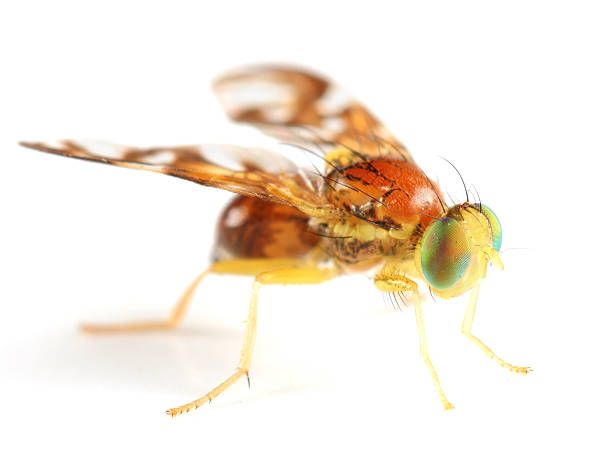Fruit fly: (144, 57, 536, 428)
